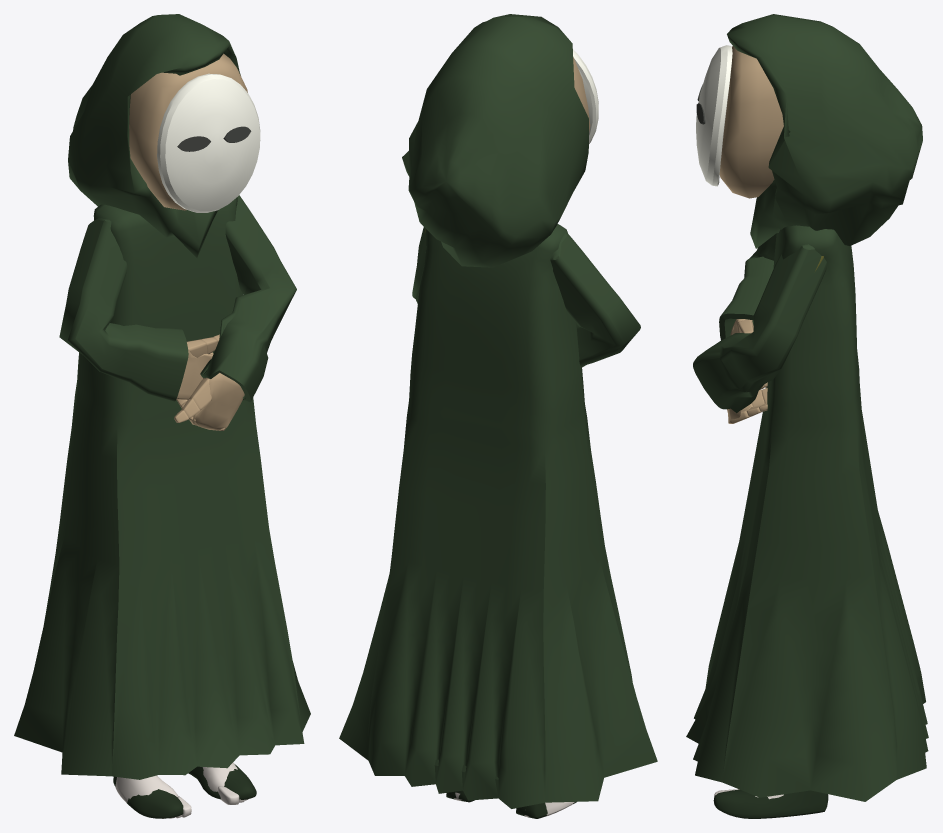
Rendered from Libra.fbx.
3 renders of one model, left to right at view 1: azimuth 30°, elevation 25°; view 2: azimuth 150°, elevation 25°; view 3: azimuth 270°, elevation 25°, orthographic.
Visible parts, largest first — view 1: polySurface3, Caputxa1, polySurface8, màscara, polySurface9, head_geo, R_palm_R_geo (×2), foot_R_geo, foot_L_geo, foot_R_geo1; view 2: polySurface3, Caputxa1, polySurface8, màscara; view 3: polySurface3, Caputxa1, polySurface9, head_geo, màscara, foot_L_geo, polySurface8.
Boxes of the visible parts, x1,y1,x2,y2 form: polySurface3: [14, 197, 310, 779]; Caputxa1: [68, 14, 240, 257]; polySurface8: [59, 218, 188, 401]; màscara: [157, 73, 260, 212]; polySurface9: [200, 195, 296, 401]; head_geo: [129, 53, 247, 210]; R_palm_R_geo (×2): [176, 351, 244, 430]; foot_R_geo: [113, 776, 183, 818]; foot_L_geo: [188, 764, 256, 799]; foot_R_geo1: [115, 775, 178, 802]; polySurface3: [339, 224, 657, 808]; Caputxa1: [402, 14, 588, 267]; polySurface8: [550, 232, 640, 367]; màscara: [573, 49, 598, 143]; polySurface3: [686, 225, 928, 801]; Caputxa1: [727, 14, 922, 248]; polySurface9: [693, 244, 827, 413]; head_geo: [719, 46, 783, 198]; màscara: [696, 45, 732, 186]; foot_L_geo: [713, 789, 828, 818]; polySurface8: [719, 233, 776, 340].
Bounding box in the file's own units: 1.24 × 3.48 × 0.9859.
